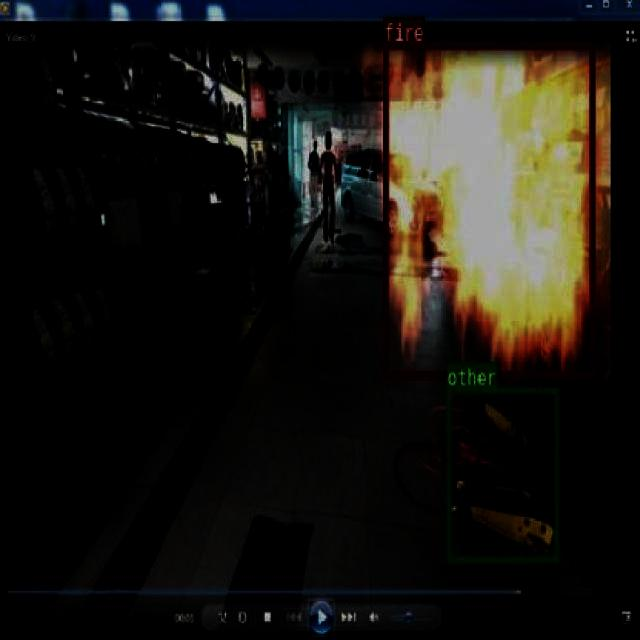fire: (382, 41, 593, 377)
